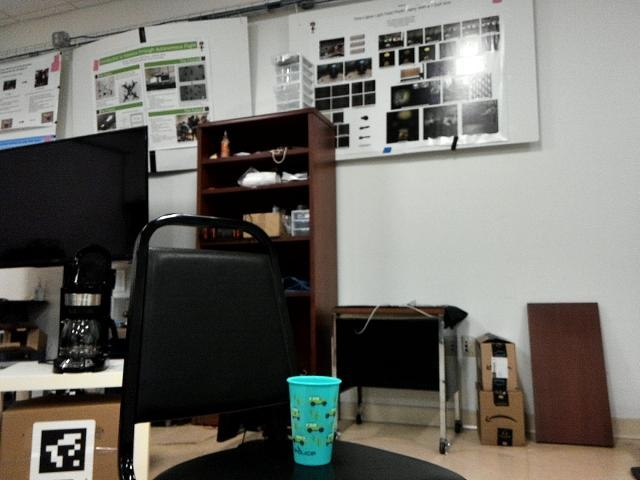coffee_cup: (282, 372, 342, 467)
